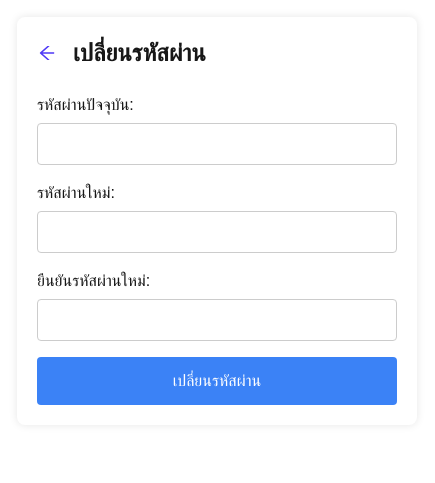
ChangePassword › ควรเปลี่ยนรหัสผ่านสำเร็จเมื่อส่งข้อมูลถูกต้อง
This screenshot has width=435, height=483.
Note: ป้อนข้อมูลที่ถูกต้อง
Type "oldpass" into the password field labelled "รหัสผ่านปัจจุบัน:". click: (217, 144)
box: top-left (37, 123), bottom-right (397, 165)
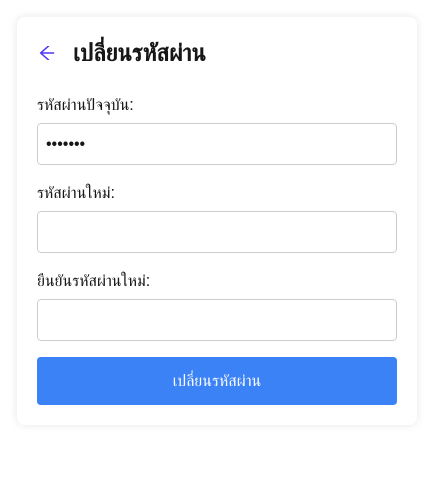
Type "newpass123" into the password field labelled "รหัสผ่านใหม่:". click: (217, 232)
box: top-left (37, 211), bottom-right (397, 253)
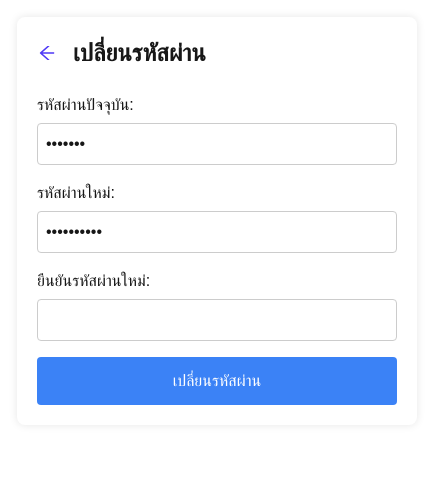
Type "newpass123" into the password field labelled "ยืนยันรหัสผ่านใหม่:". click: (217, 320)
box: top-left (37, 299), bottom-right (397, 341)
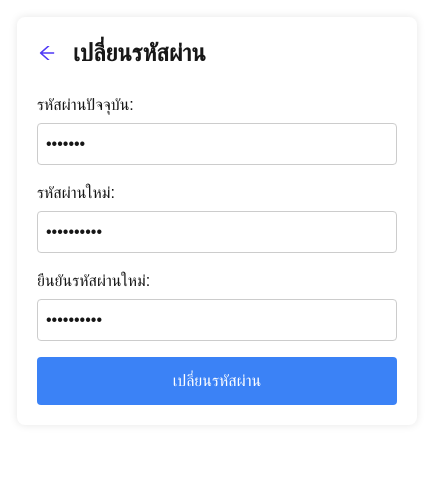
Click the button "เปลี่ยนรหัสผ่าน". click: click(217, 381)
box: top-left (37, 357), bottom-right (397, 405)
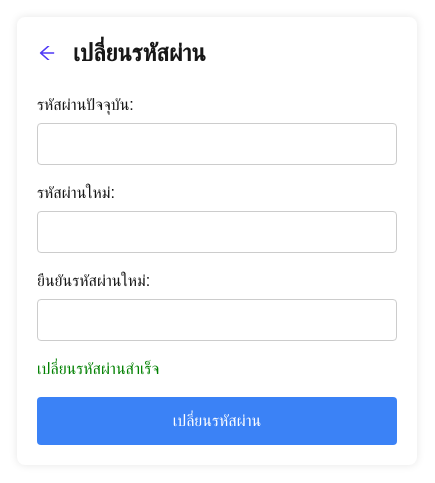
Expected: the text "เปลี่ยนรหัสผ่านสำเร็จ" is shown, top-left (37, 360), bottom-right (159, 377)
Expected: the password field labelled "รหัสผ่านปัจจุบัน:" is empty, top-left (37, 123), bottom-right (397, 165)
Expected: the password field labelled "รหัสผ่านใหม่:" is empty, top-left (37, 211), bottom-right (397, 253)
